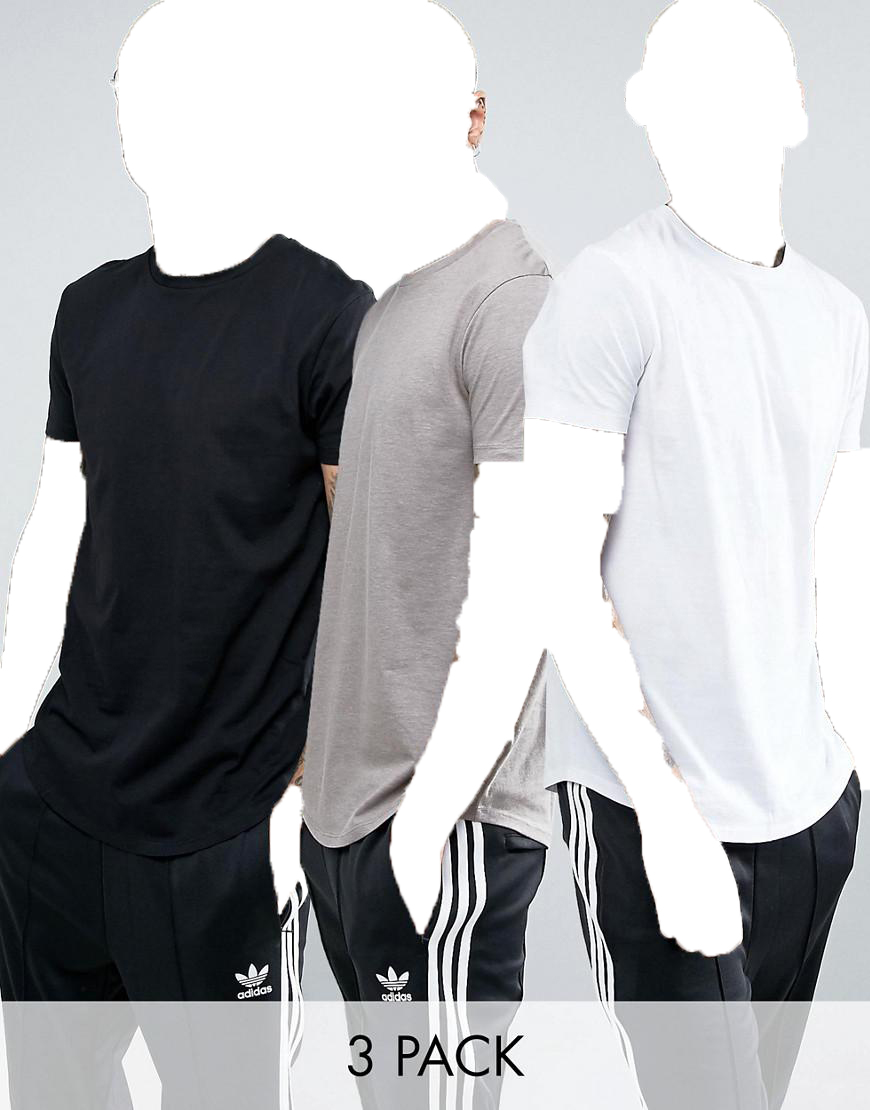teeshirt: (520, 213, 870, 855), (34, 246, 293, 825), (308, 237, 518, 851)
